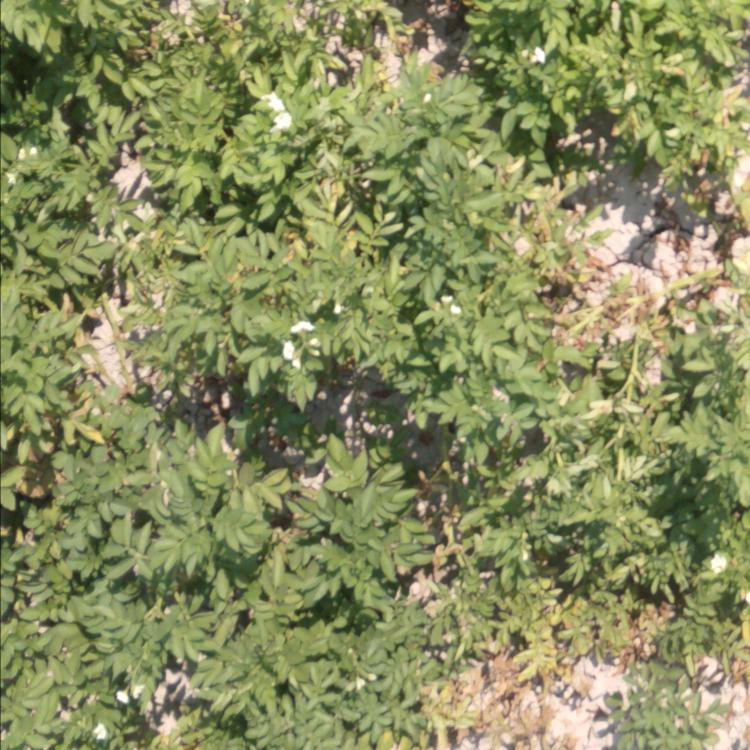healthy: (133, 216, 732, 491), (138, 2, 482, 216), (137, 498, 347, 746), (489, 1, 732, 213), (1, 1, 131, 286), (1, 551, 125, 742)
stressed: (364, 500, 739, 750), (1, 304, 123, 535)
